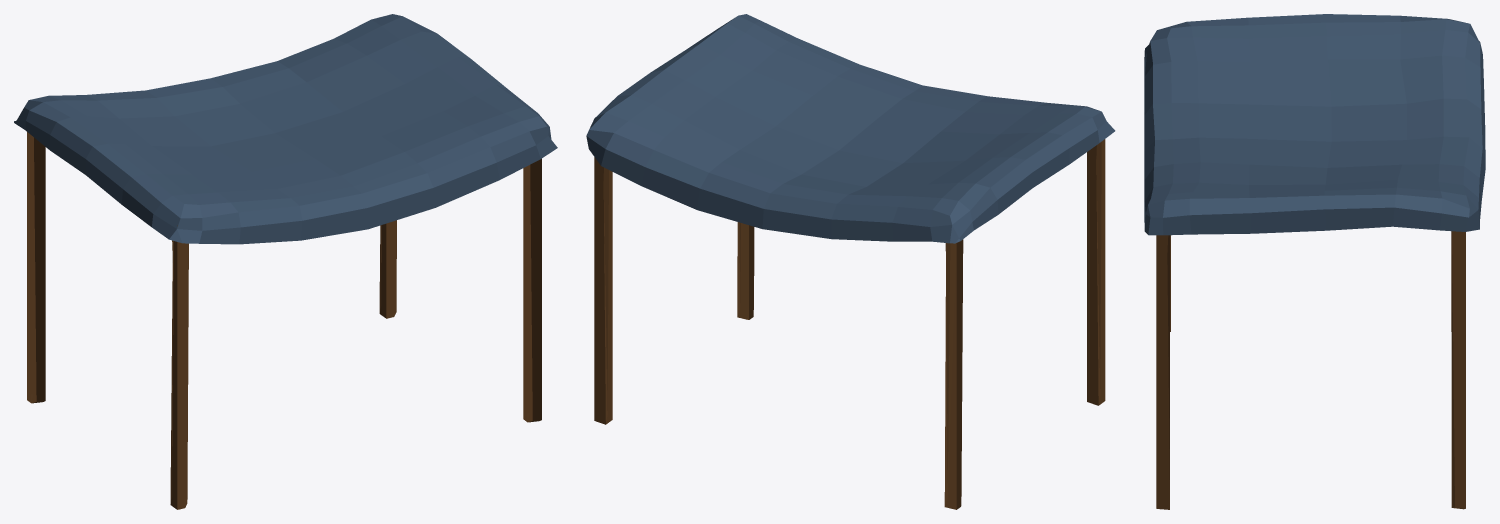
Rendered from SM_market_stand_01.fbx.
3 views of the same model, side by side, from view 1: azimuth 30°, elevation 25°; view 2: azimuth 150°, elevation 25°; view 3: azimuth 270°, elevation 25° (orthographic). The views are drawn at different scales.
Parts seen in each view (by area): view 1: Object532; view 2: Object532; view 3: Object532.
Boxes of the visible parts, box(x1,y1,x2,y2) form: Object532: box(14, 14, 557, 509); Object532: box(586, 14, 1115, 509); Object532: box(1144, 14, 1485, 509).
Bounding box in the file's own units: 140 × 106 × 104.
